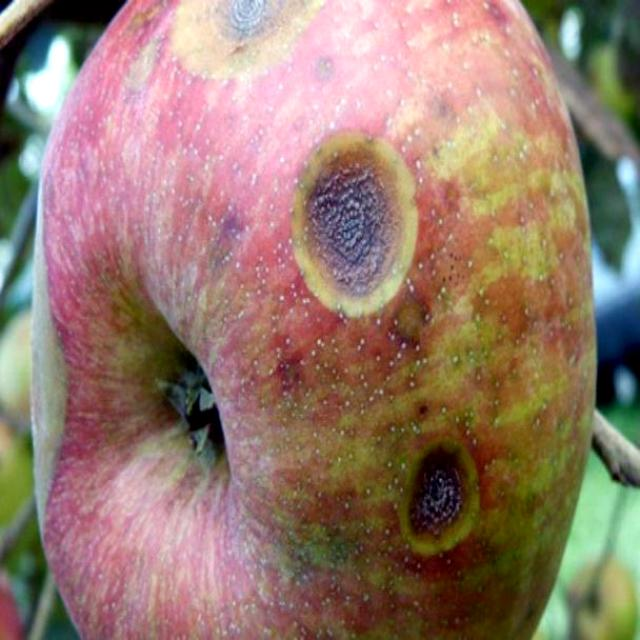SCAB: (40, 21, 579, 606)
